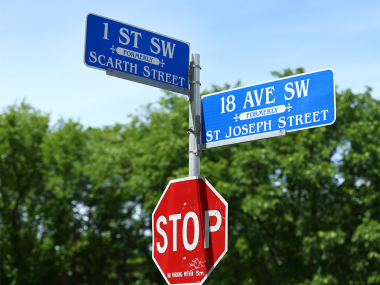stop_sign: (151, 176, 228, 285)
